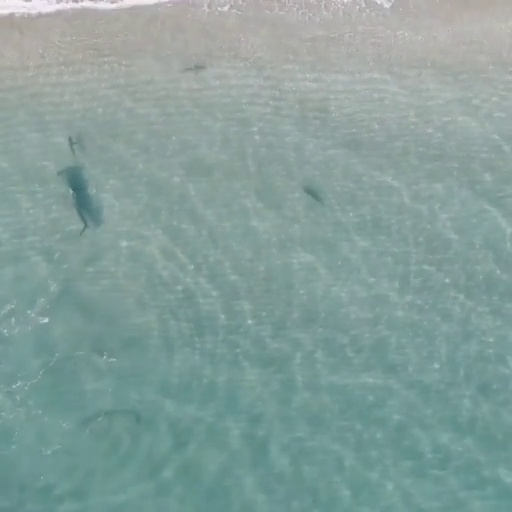shark: (53, 163, 97, 236)
